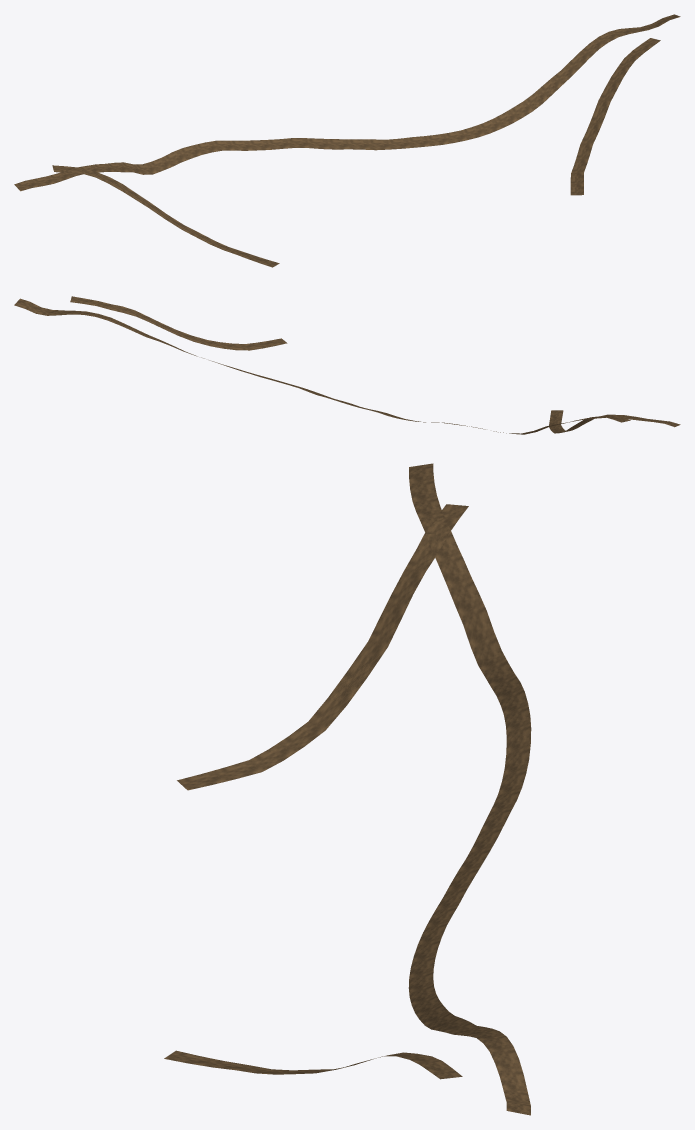
File: calles.obj
3 views of the same model, one above another, from view 1: azimuth 30°, elevation 25°; view 2: azimuth 150°, elevation 25°; view 3: azimuth 270°, elevation 25° (orthographic). The views are drawn at different scales.
Visible parts, largest first — view 1: calles; view 2: calles; view 3: calles.
Part boxes in pixels (box(x1,y1,x2,y2)): calles: box(14, 14, 680, 267); calles: box(14, 296, 680, 434); calles: box(164, 463, 531, 1115).
Bounding box in the file's own units: 240 × 26.74 × 60.
Materials: 1 (1 with a texture image).
